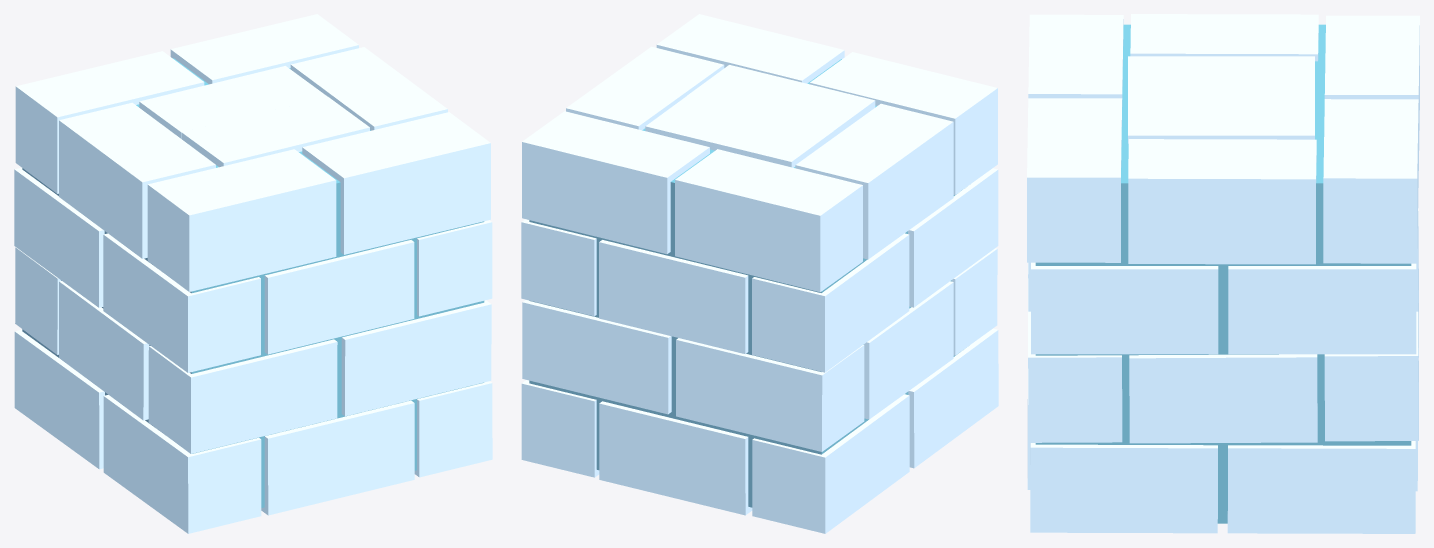
File: walls_shadow_cast.gltf
3 views of the same model, side by side, from view 1: azimuth 30°, elevation 25°; view 2: azimuth 150°, elevation 25°; view 3: azimuth 270°, elevation 25° (orthographic). The views are drawn at different scales.
Parts seen in each view (by area): view 1: Box (×21); view 2: Box (×21); view 3: Box (×16).
Boxes of the visible parts, x1=… form: Box (×21): x1=14, y1=14, x2=492, y2=533; Box (×21): x1=521, y1=14, x2=998, y2=533; Box (×16): x1=1027, y1=14, x2=1419, y2=533.
Bounding box in the file's own units: 0.9901 × 0.9932 × 0.9943.
